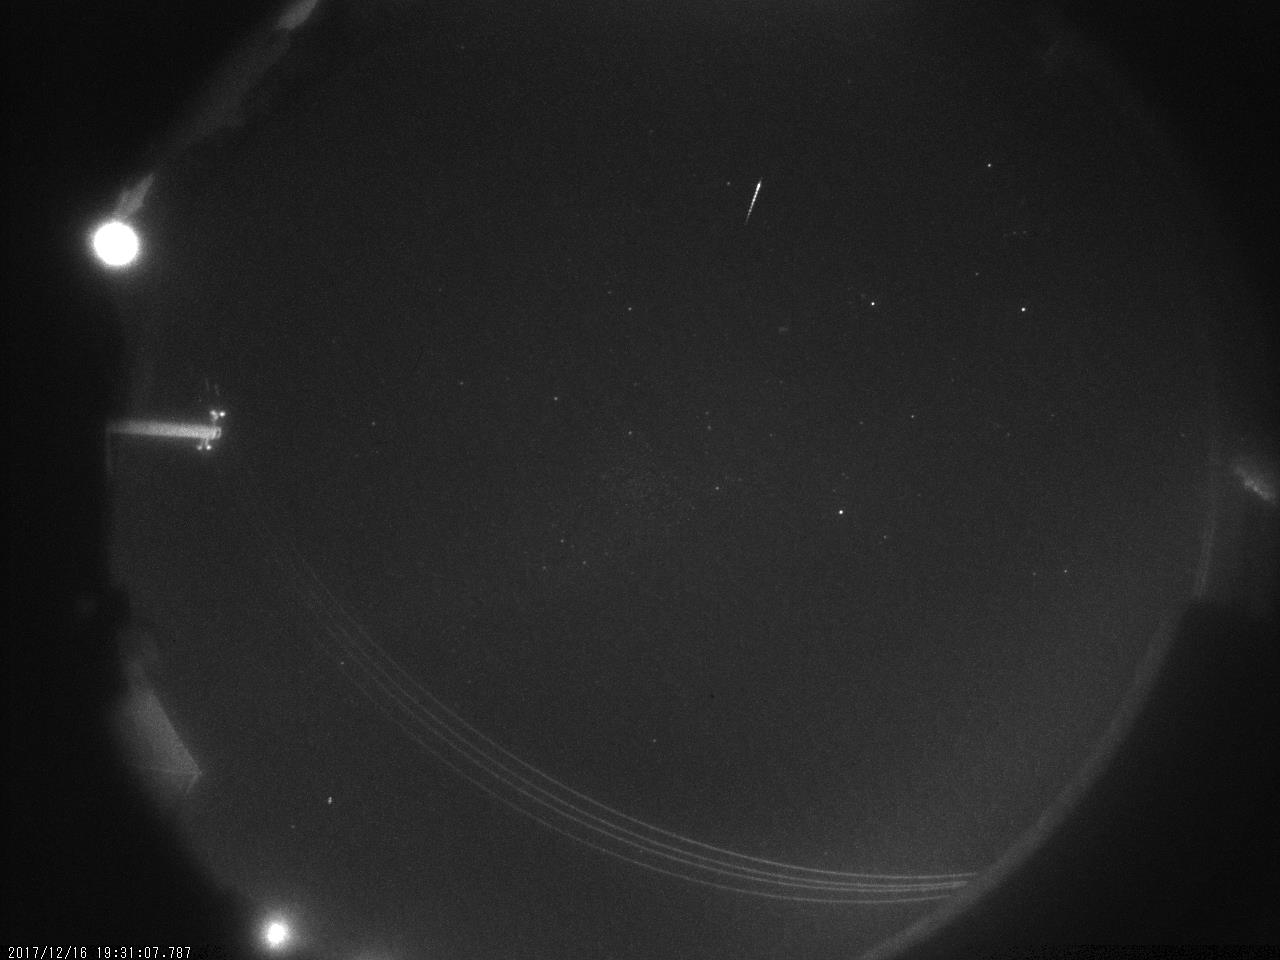meteor: (735, 171, 774, 234)
